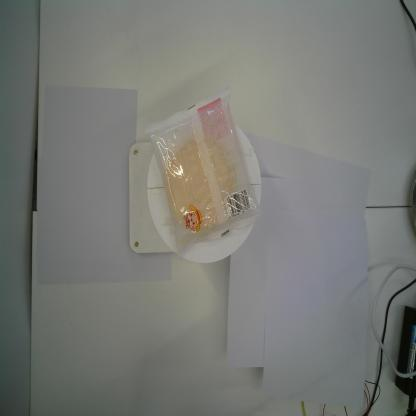Dessert: (138, 85, 264, 259)
